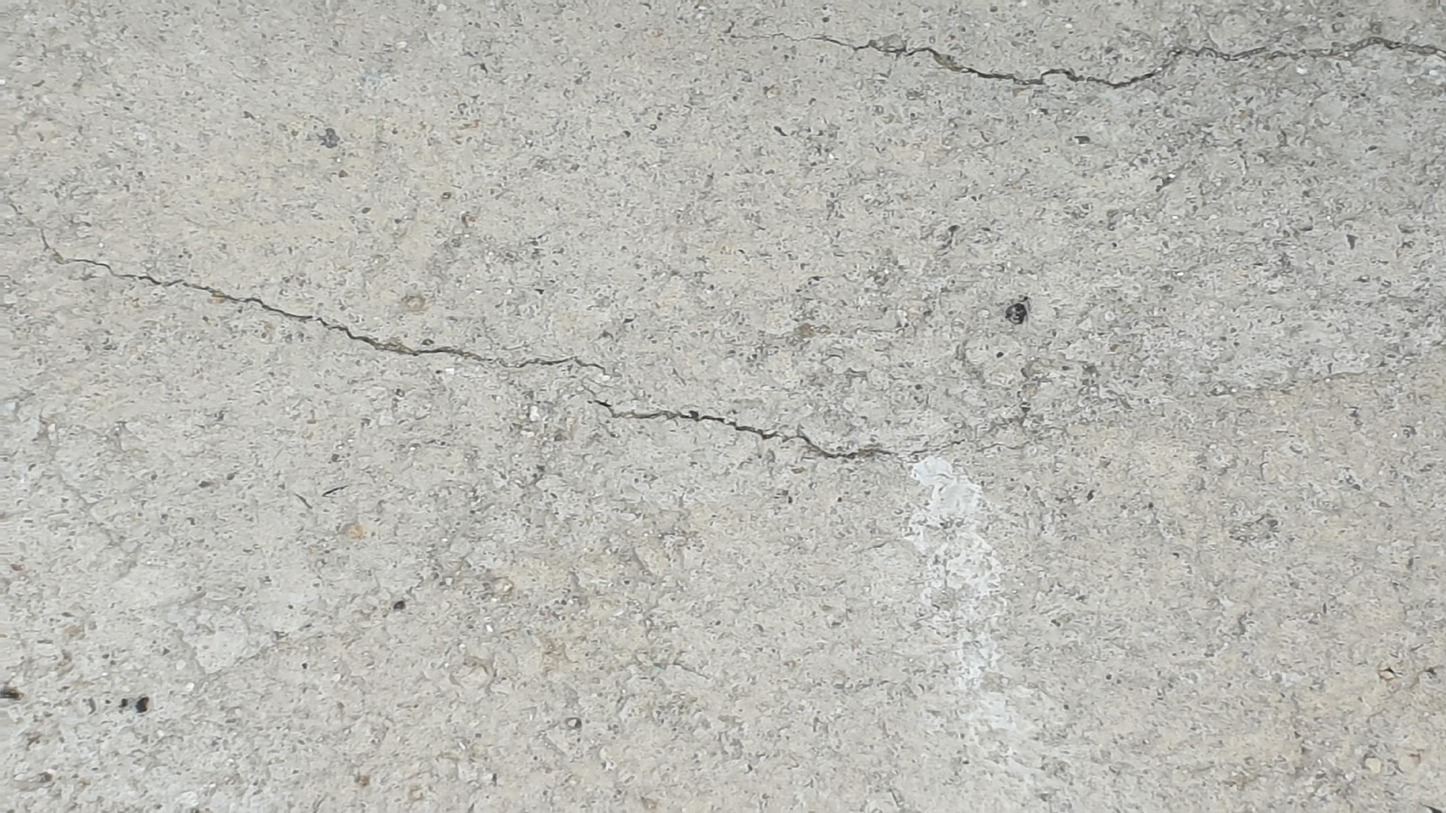crack: (65, 253, 607, 378), (815, 34, 1444, 89), (594, 401, 896, 462)
